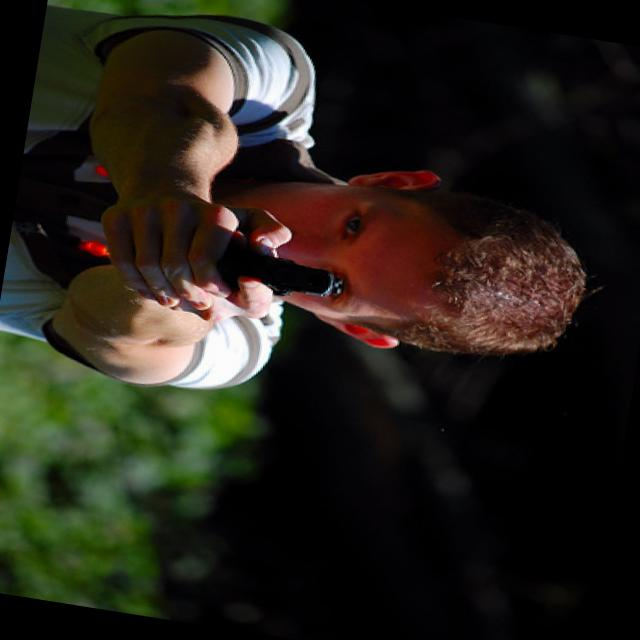handgun: (218, 249, 348, 304)
